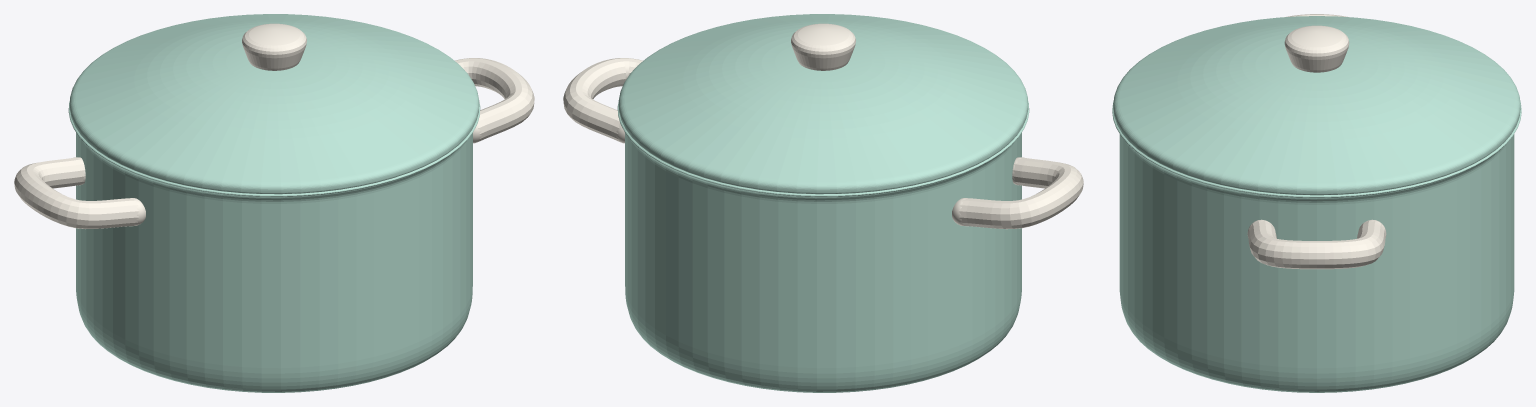
File: pot.glb
The picture shows the model from 3 angles, left to right: view 1: azimuth 30°, elevation 25°; view 2: azimuth 150°, elevation 25°; view 3: azimuth 270°, elevation 25°; orthographic projection.
Parts seen in each view (by area): view 1: Pot_Body, Pot_Lid_Shell, Pot_Handle_L, Pot_Handle_R, Pot_Lid_Knob; view 2: Pot_Body, Pot_Lid_Shell, Pot_Handle_L, Pot_Handle_R, Pot_Lid_Knob; view 3: Pot_Body, Pot_Lid_Shell, Pot_Handle_R, Pot_Lid_Knob.
Part boxes in pixels (x1,y1,x2,y2): Pot_Body: [68, 101, 480, 392]; Pot_Lid_Shell: [69, 14, 479, 194]; Pot_Handle_L: [14, 157, 145, 229]; Pot_Handle_R: [455, 58, 534, 143]; Pot_Lid_Knob: [242, 23, 306, 70]; Pot_Body: [617, 101, 1029, 392]; Pot_Lid_Shell: [618, 14, 1028, 194]; Pot_Handle_L: [952, 157, 1083, 229]; Pot_Handle_R: [563, 58, 642, 143]; Pot_Lid_Knob: [791, 23, 855, 70]; Pot_Body: [1112, 101, 1521, 392]; Pot_Lid_Shell: [1113, 16, 1520, 195]; Pot_Handle_R: [1247, 219, 1386, 269]; Pot_Lid_Knob: [1284, 25, 1349, 72].
Size of the model in its own units: 0.3578 by 0.199 by 0.2593.
